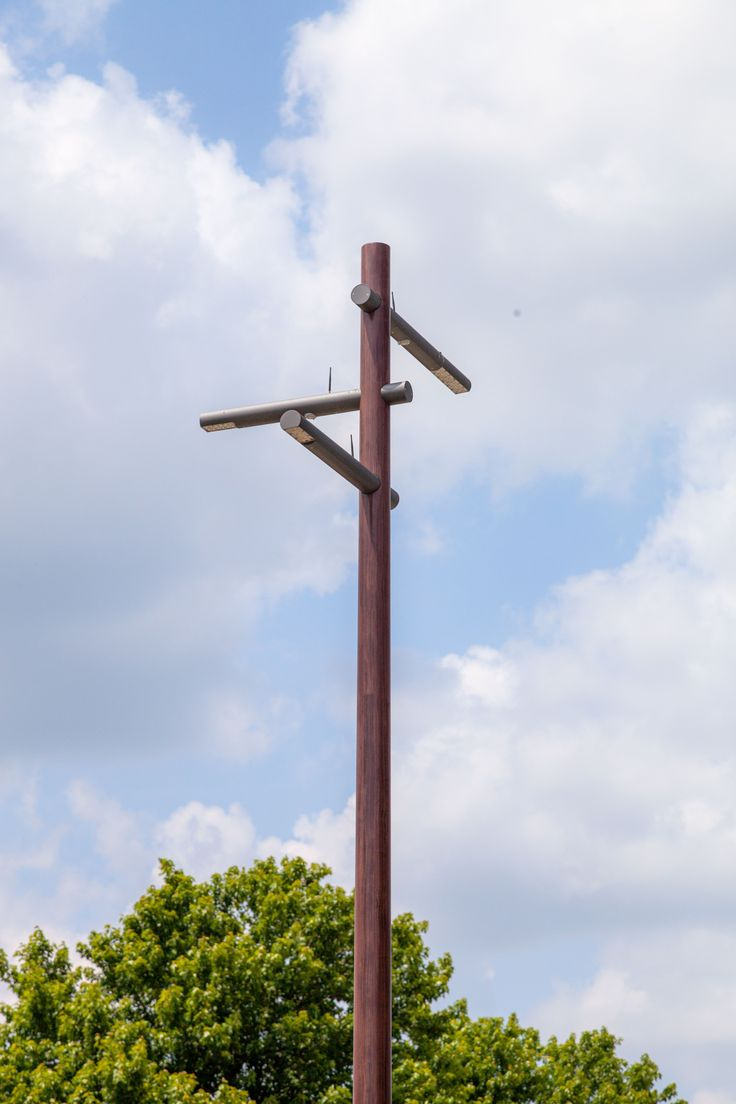light_pole: (340, 247, 404, 1103)
